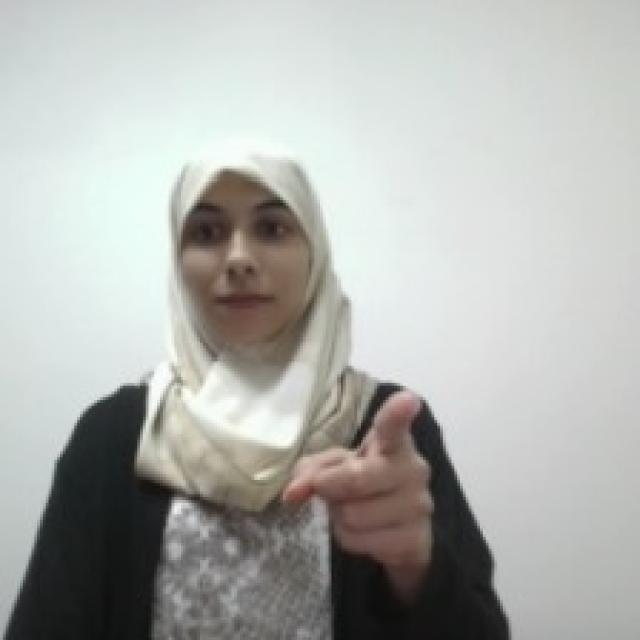you: (280, 385, 436, 569)
